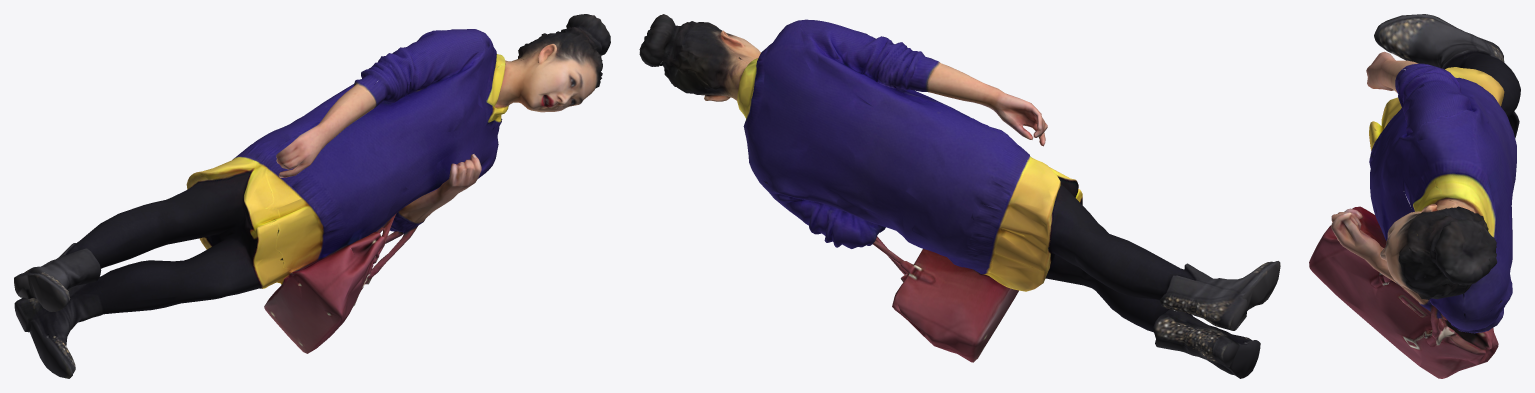
The model's file is nvren2.glb.
The picture shows the model from 3 angles, left to right: view 1: azimuth 30°, elevation 25°; view 2: azimuth 150°, elevation 25°; view 3: azimuth 270°, elevation 25°; orthographic projection. The views are drawn at different scales.
Visible parts, largest first — view 1: nvren2; view 2: nvren2; view 3: nvren2.
Boxes of the visible parts, left/top/right/bottom form: nvren2: left=14, top=14, right=610, bottom=378; nvren2: left=639, top=14, right=1280, bottom=378; nvren2: left=1309, top=14, right=1520, bottom=378.
Size of the model in its own units: 1.73 by 0.8125 by 0.4215.
Materials: 1 (1 with a texture image).
